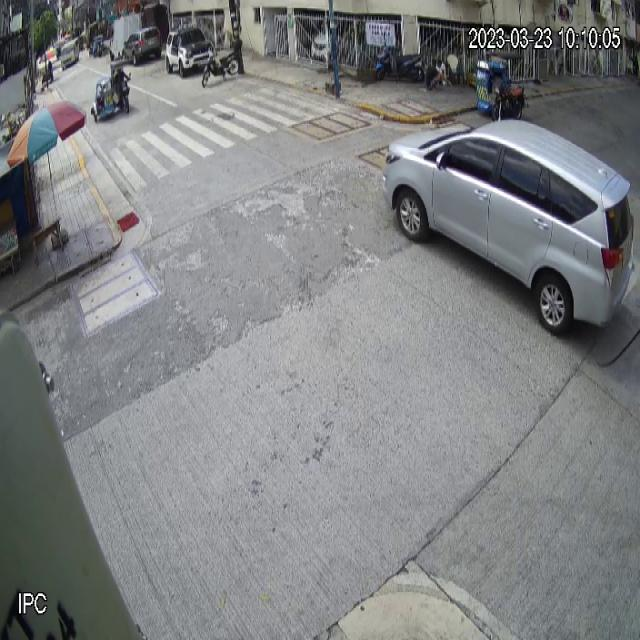Car: (383, 117, 636, 336)
Tricycle: (476, 51, 526, 122), (91, 58, 134, 123)
